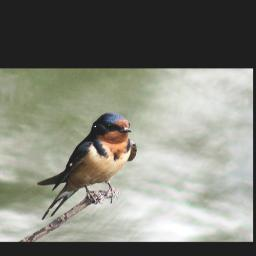Swallow: (41, 112, 140, 221)
